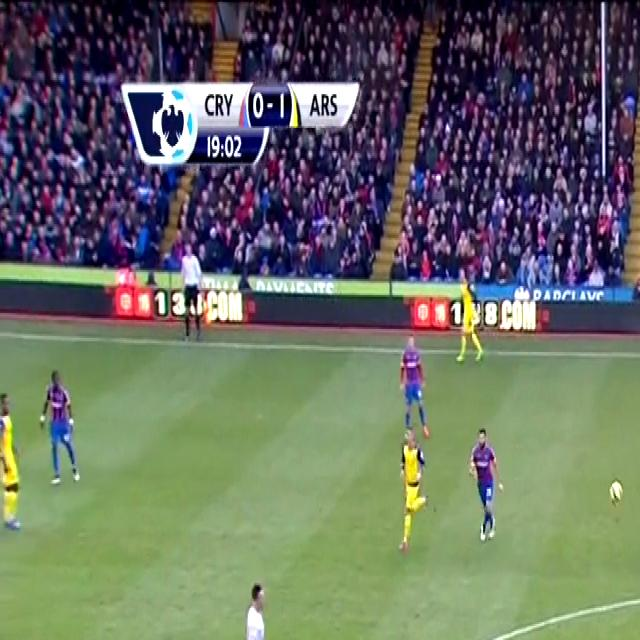ball: (603, 472, 631, 512)
referee: (231, 583, 286, 640)
soccer-player: (28, 364, 86, 495), (463, 423, 514, 550), (390, 424, 435, 558), (0, 382, 29, 539), (396, 335, 436, 441), (453, 279, 492, 372)
